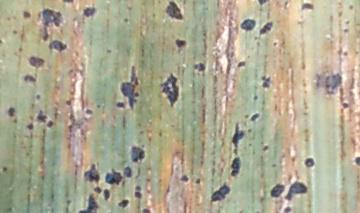tarspot: (36, 7, 65, 43), (119, 65, 140, 111), (159, 72, 180, 108), (76, 193, 100, 213), (286, 180, 308, 201), (323, 72, 342, 96), (231, 120, 244, 155), (164, 1, 185, 22), (209, 183, 230, 203), (82, 163, 101, 185), (102, 168, 124, 185), (46, 39, 68, 53), (129, 145, 146, 163), (269, 182, 286, 198), (239, 18, 256, 34), (257, 21, 274, 37), (27, 55, 45, 70), (230, 156, 241, 177), (259, 73, 272, 89), (311, 71, 321, 91), (82, 5, 96, 19), (21, 73, 38, 84), (302, 156, 316, 169), (35, 109, 49, 122), (116, 199, 131, 209), (193, 61, 206, 72), (174, 38, 187, 49), (300, 2, 314, 12), (249, 111, 260, 123), (122, 165, 132, 178), (103, 188, 112, 202), (91, 185, 103, 195), (21, 10, 32, 20), (115, 101, 125, 111), (179, 174, 190, 183), (84, 107, 95, 116), (6, 106, 15, 117), (353, 155, 360, 168), (25, 122, 35, 131), (45, 119, 54, 129), (133, 191, 143, 200), (281, 205, 292, 213), (341, 48, 349, 58), (236, 61, 247, 68), (104, 47, 113, 55), (140, 207, 151, 213), (257, 1, 268, 7), (122, 16, 130, 24), (64, 98, 71, 107), (271, 40, 278, 48), (16, 45, 23, 53), (341, 101, 348, 109), (343, 19, 351, 26), (347, 3, 354, 11), (262, 144, 269, 152), (133, 185, 142, 191), (10, 28, 17, 35), (342, 27, 349, 34), (252, 95, 259, 102), (60, 1, 75, 4), (35, 93, 41, 100), (3, 166, 9, 173), (1, 38, 4, 44)
